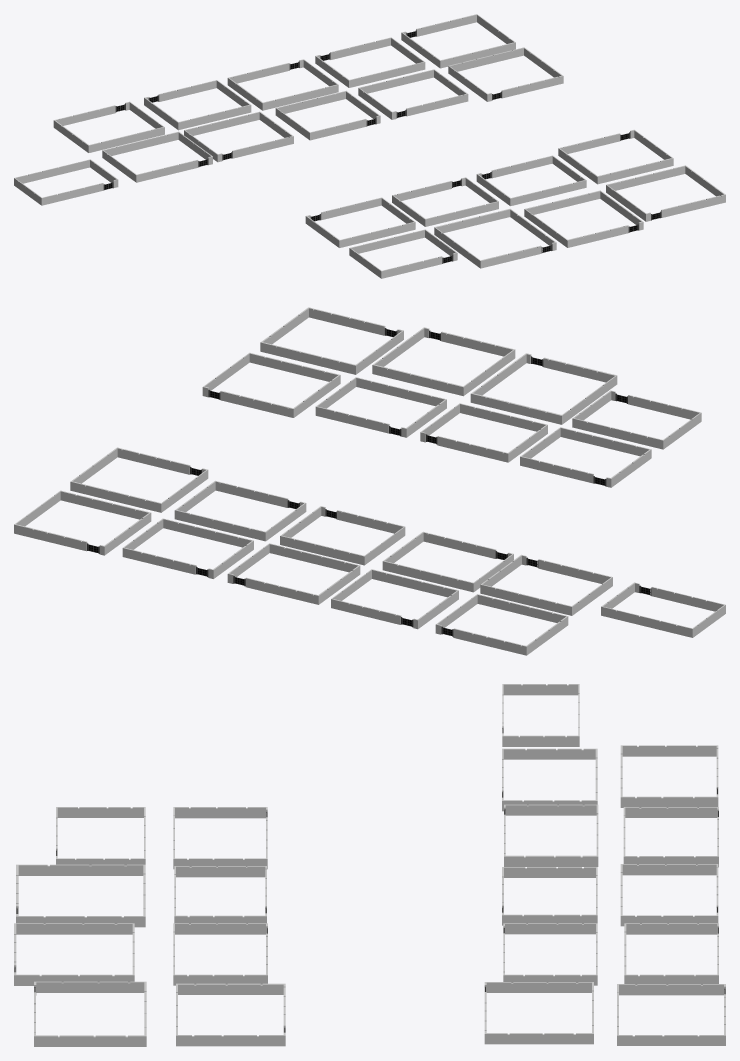
File: New Walls.fbx
3 views of the same model, one above another, from view 1: azimuth 30°, elevation 25°; view 2: azimuth 150°, elevation 25°; view 3: azimuth 270°, elevation 25° (orthographic). The views are drawn at different scales.
Visible parts, largest first — view 1: polySurface4_1, polySurface9_7, polySurface5, polySurface9_2, polySurface9_4, polySurface4_2, polySurface2, polySurface9_1, polySurface9, polySurface5__1__1, polySurface5__1_, polySurface3_2 (+7 smaller); view 2: polySurface4_1, polySurface9_7, polySurface5, polySurface9_2, polySurface9_4, polySurface4_2, polySurface9, polySurface9_1, polySurface2, polySurface9_5, polySurface3_2, polySurface5__1__1 (+7 smaller); view 3: polySurface9_7, polySurface4_1, polySurface9_2, polySurface5, polySurface9_4, polySurface4_2, polySurface9_1, polySurface9_6, polySurface9, polySurface5__1_, polySurface5__1__1, polySurface4 (+7 smaller).
Boxes of the visible parts, x1=… form: polySurface4_1: x1=434, y1=208, x2=556, y2=268; polySurface9_7: x1=606, y1=165, x2=725, y2=221; polySurface5: x1=524, y1=190, x2=643, y2=247; polySurface9_2: x1=558, y1=129, x2=673, y2=184; polySurface9_4: x1=448, y1=47, x2=563, y2=101; polySurface4_2: x1=401, y1=14, x2=515, y2=68; polySurface2: x1=102, y1=131, x2=212, y2=182; polySurface9_1: x1=53, y1=101, x2=164, y2=152; polySurface9: x1=227, y1=59, x2=338, y2=110; polySurface5__1__1: x1=476, y1=155, x2=586, y2=206; polySurface5__1_: x1=315, y1=37, x2=425, y2=87; polySurface3_2: x1=305, y1=197, x2=415, y2=247; polySurface4_1: x1=470, y1=353, x2=617, y2=424; polySurface9_7: x1=260, y1=307, x2=403, y2=374; polySurface5: x1=372, y1=327, x2=515, y2=396; polySurface9_2: x1=202, y1=352, x2=340, y2=417; polySurface9_4: x1=70, y1=447, x2=208, y2=512; polySurface4_2: x1=14, y1=490, x2=151, y2=555; polySurface9: x1=227, y1=543, x2=360, y2=604; polySurface9_1: x1=435, y1=594, x2=568, y2=655; polySurface2: x1=480, y1=554, x2=612, y2=615; polySurface9_5: x1=174, y1=480, x2=306, y2=541; polySurface3_2: x1=520, y1=427, x2=651, y2=487; polySurface5__1__1: x1=315, y1=377, x2=446, y2=437; polySurface9_7: x1=34, y1=981, x2=146, y2=1046; polySurface4_1: x1=16, y1=864, x2=145, y2=927; polySurface9_2: x1=176, y1=983, x2=285, y2=1046; polySurface5: x1=14, y1=923, x2=134, y2=985; polySurface9_4: x1=484, y1=982, x2=593, y2=1044; polySurface4_2: x1=617, y1=984, x2=725, y2=1045; polySurface9_1: x1=620, y1=745, x2=718, y2=807; polySurface9_6: x1=504, y1=804, x2=598, y2=866; polySurface9: x1=620, y1=864, x2=718, y2=926; polySurface5__1_: x1=624, y1=923, x2=718, y2=984; polySurface5__1__1: x1=173, y1=923, x2=267, y2=985; polySurface4: x1=502, y1=867, x2=597, y2=925.
Size of the model in its own units: 22636 by 378 by 19335.
